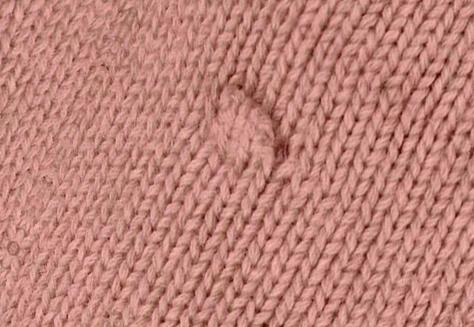knot: (206, 79, 285, 181)
